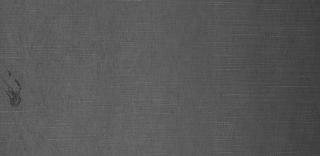water spot: (0, 64, 26, 112)
